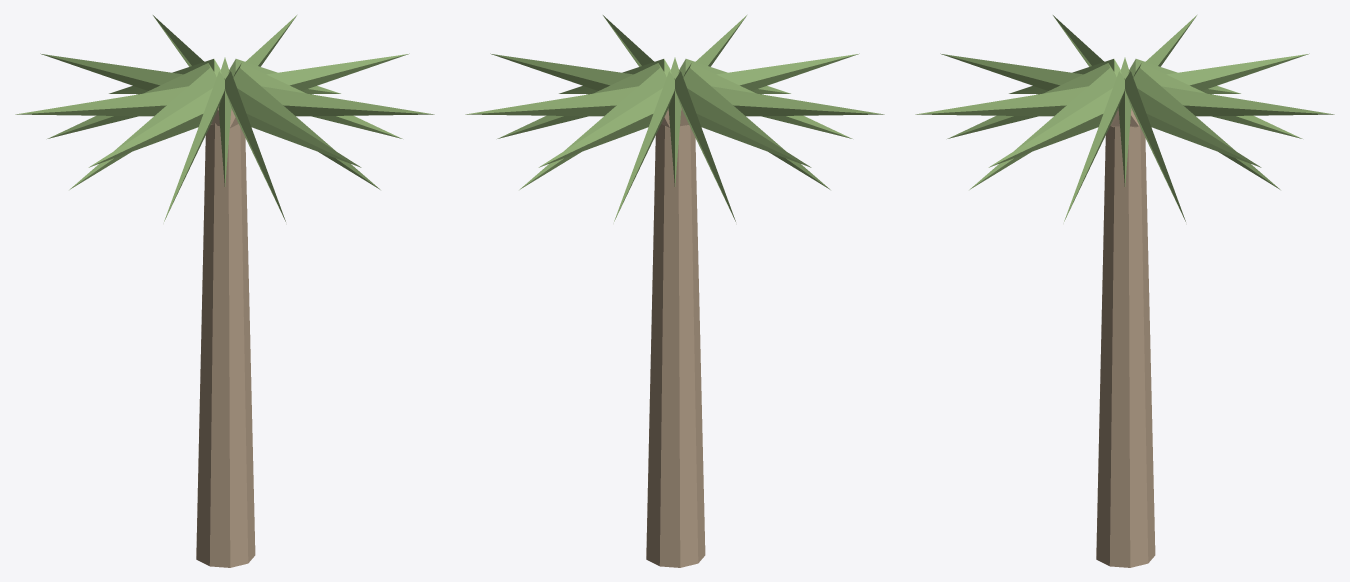
Rendered from date_palm_bare.glb.
The picture shows the model from 3 angles, left to right: view 1: azimuth 30°, elevation 25°; view 2: azimuth 150°, elevation 25°; view 3: azimuth 270°, elevation 25°; orthographic projection.
Visible parts, largest first — view 1: date_palm_bare; view 2: date_palm_bare; view 3: date_palm_bare.
Part boxes in pixels (x1,y1,x2,y2): date_palm_bare: [15, 15, 434, 567]; date_palm_bare: [465, 15, 884, 567]; date_palm_bare: [915, 15, 1334, 567].
Bounding box in the file's own units: 2.18 × 2.85 × 2.22.
